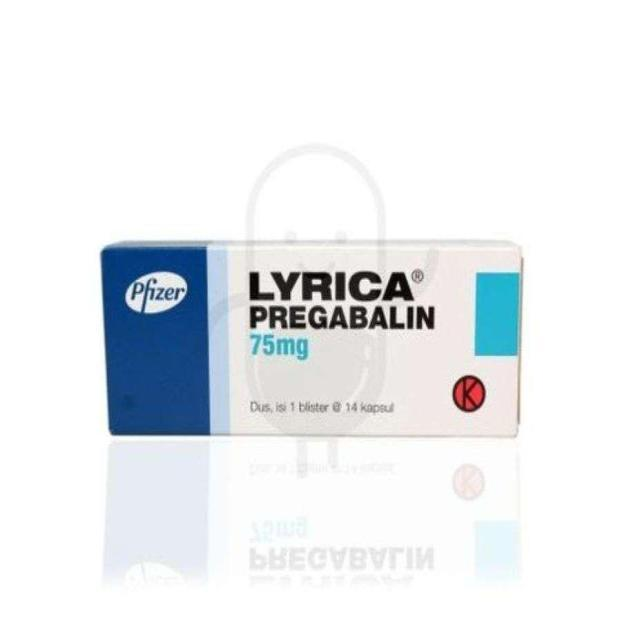drug-name: (246, 264, 437, 301)
